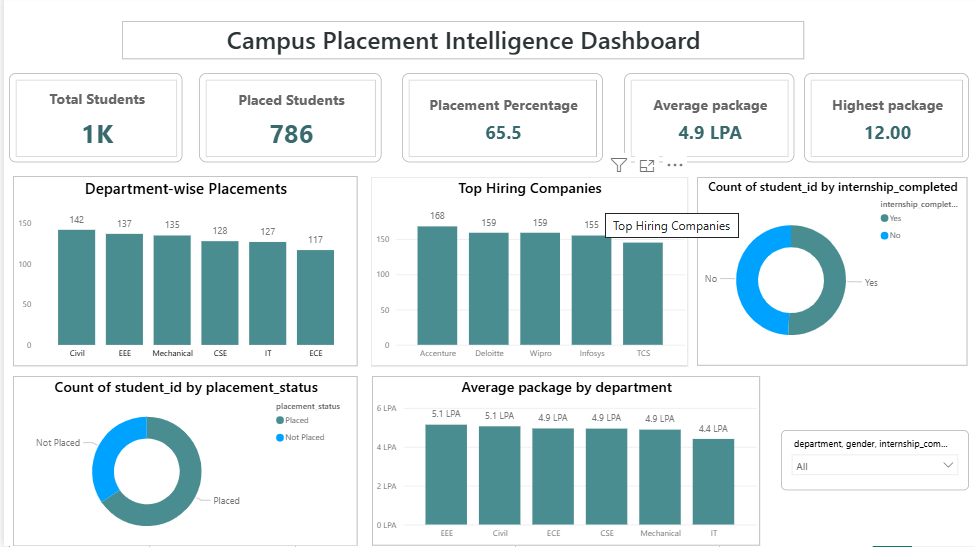

The dashboard page shown, as its layout file describes it:
{"tool":"powerbi","page":{"name":"Executive Overview","canvas":[1280,720],"ordinal":1},"visuals":[{"type":"cardVisual","fields":{"Data":["placements.Total Students"]},"box":[7.1,101.4,227.1,117.1],"z":0},{"type":"cardVisual","fields":{"Data":["placements.Placed Students"]},"box":[255.7,101.4,238.6,117.1],"z":1000},{"type":"cardVisual","fields":{"Data":["placements.Placement Percentage"]},"box":[521.4,101.4,262.9,117.1],"z":2000},{"type":"cardVisual","fields":{"Data":["placements.Average package"]},"box":[811.4,101.4,222.9,117.1],"z":3000},{"type":"cardVisual","fields":{"Data":["placements.Highest package"]},"box":[1047.1,101.4,215.7,117.1],"z":4000},{"type":"clusteredColumnChart","title":"Department-wise Placements","fields":{"Y":["placements.Placed Students"],"Category":["students.department"]},"box":[11.5,236.2,450.7,249.1],"z":5000},{"type":"clusteredColumnChart","title":"Top Hiring Companies","fields":{"Y":["placements.Placed Students"],"Category":["companies.company_name"]},"box":[481,237.6,414.7,247.7],"z":6000},{"type":"donutChart","fields":{"Category":["placements.placement_status"],"Y":["CountNonNull(students.student_id)"]},"box":[11.4,497.1,451.4,222.9],"z":7000},{"type":"clusteredColumnChart","fields":{"Category":["students.department"],"Y":["placements.Average package"]},"box":[481.5,497.6,507.8,222.4],"z":8000},{"type":"donutChart","fields":{"Category":["internships.internship_completed"],"Y":["CountNonNull(students.student_id)"]},"box":[907.1,237.1,354.3,247.1],"z":9000},{"type":"slicer","fields":{"Values":["students.department","students.gender","internships.internship_completed"]},"box":[1017.1,568.6,245.7,78.6],"z":10000},{"type":"textbox","title":"Campus Placement Intelligence Dashboard","box":[154.1,33.1,892.8,50.4],"z":11000}]}

Visuals, with their boxes in screenshot pixels (x1, y1, x2, y2), scaled from the page's 1280x720 canvas onto the 975x547 screenshot:
cardVisual - placements.Total Students: (x1=5, y1=77, x2=178, y2=166)
cardVisual - placements.Placed Students: (x1=195, y1=77, x2=377, y2=166)
cardVisual - placements.Placement Percentage: (x1=397, y1=77, x2=597, y2=166)
cardVisual - placements.Average package: (x1=618, y1=77, x2=788, y2=166)
cardVisual - placements.Highest package: (x1=798, y1=77, x2=962, y2=166)
"Department-wise Placements" clusteredColumnChart: (x1=9, y1=179, x2=352, y2=369)
"Top Hiring Companies" clusteredColumnChart: (x1=366, y1=181, x2=682, y2=369)
donutChart - placements.placement_status x CountNonNull(students.student_id): (x1=9, y1=378, x2=353, y2=546)
clusteredColumnChart - students.department x placements.Average package: (x1=367, y1=378, x2=754, y2=546)
donutChart - internships.internship_completed x CountNonNull(students.student_id): (x1=691, y1=180, x2=961, y2=368)
slicer - students.department x students.gender: (x1=775, y1=432, x2=962, y2=492)
"Campus Placement Intelligence Dashboard" textbox: (x1=117, y1=25, x2=797, y2=63)
